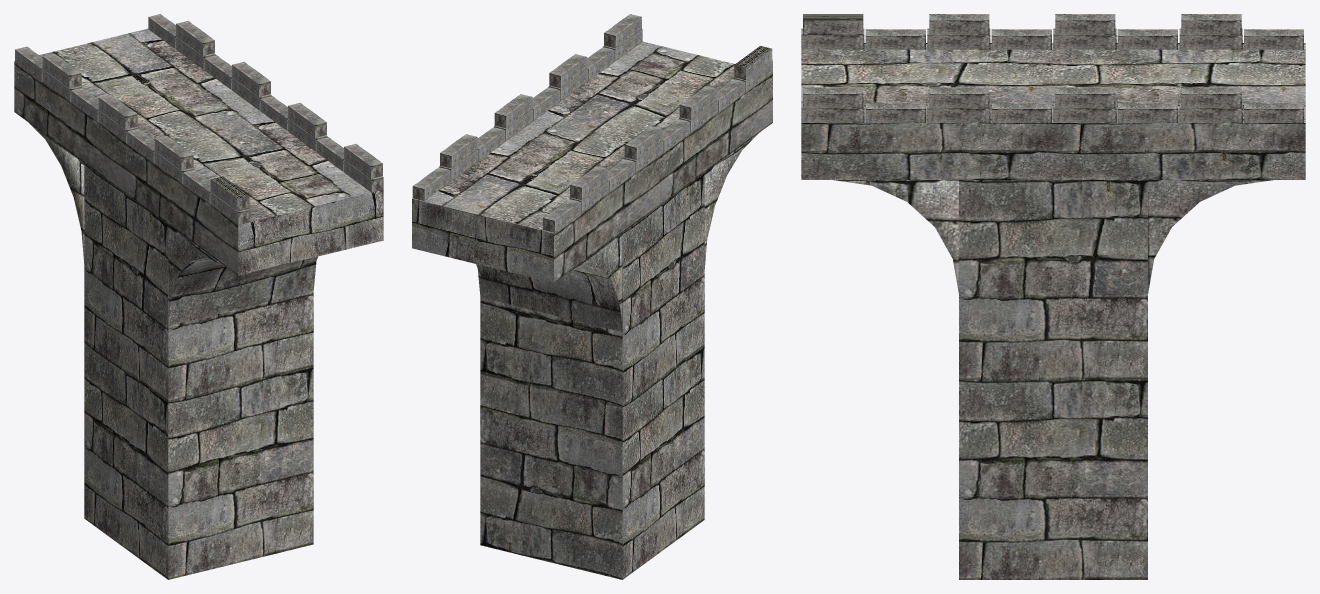
File: Bridge.fbx
3 views of the same model, side by side, from view 1: azimuth 30°, elevation 25°; view 2: azimuth 150°, elevation 25°; view 3: azimuth 270°, elevation 25° (orthographic). The views are drawn at different scales.
Visible parts, largest first — view 1: BridgeStand, BridgeWalkway, ArchSide1, ArchSide2, Brick24, Brick17, Brick18, Brick19, Brick20, Brick21, Brick22, Brick23 (+10 smaller); view 2: BridgeStand, BridgeWalkway, ArchSide2, ArchSide1, Brick21, Brick22, Brick18, Brick24, Brick17, Brick19, Brick20, Brick23 (+8 smaller); view 3: BridgeStand, BridgeWalkway, ArchSide1, ArchSide2, Brick20, Brick21, Brick22, Brick23, Brick14, Brick15, Brick13, Brick9 (+16 smaller).
Boxes of the visible parts, x1=… form: BridgeStand: x1=84, y1=163, x2=313, y2=579; BridgeWalkway: x1=14, y1=28, x2=383, y2=275; ArchSide1: x1=168, y1=225, x2=317, y2=325; ArchSide2: x1=29, y1=123, x2=84, y2=263; Brick24: x1=210, y1=176, x2=249, y2=211; Brick17: x1=154, y1=135, x2=193, y2=170; Brick18: x1=98, y1=94, x2=137, y2=129; Brick19: x1=42, y1=53, x2=81, y2=88; Brick20: x1=176, y1=21, x2=214, y2=55; Brick21: x1=232, y1=62, x2=270, y2=96; Brick22: x1=288, y1=103, x2=326, y2=137; Brick23: x1=344, y1=144, x2=382, y2=178; BridgeStand: x1=480, y1=173, x2=704, y2=579; BridgeWalkway: x1=412, y1=41, x2=772, y2=282; ArchSide2: x1=476, y1=233, x2=622, y2=331; ArchSide1: x1=704, y1=133, x2=758, y2=268; Brick21: x1=494, y1=94, x2=532, y2=128; Brick22: x1=549, y1=54, x2=587, y2=88; Brick18: x1=624, y1=126, x2=662, y2=159; Brick24: x1=734, y1=46, x2=772, y2=79; Brick17: x1=679, y1=86, x2=717, y2=119; Brick19: x1=570, y1=166, x2=607, y2=200; Brick20: x1=440, y1=134, x2=477, y2=168; Brick23: x1=604, y1=14, x2=641, y2=48; BridgeStand: x1=959, y1=180, x2=1147, y2=579; BridgeWalkway: x1=801, y1=43, x2=1305, y2=179; ArchSide1: x1=834, y1=180, x2=958, y2=293; ArchSide2: x1=1148, y1=180, x2=1272, y2=293; Brick20: x1=1181, y1=87, x2=1241, y2=108; Brick21: x1=1055, y1=87, x2=1115, y2=108; Brick22: x1=929, y1=87, x2=989, y2=108; Brick23: x1=803, y1=87, x2=863, y2=108; Brick14: x1=991, y1=102, x2=1051, y2=123; Brick15: x1=865, y1=102, x2=925, y2=123; Brick13: x1=1117, y1=102, x2=1177, y2=123; Brick9: x1=991, y1=29, x2=1051, y2=49.
Bounding box in the file's own units: 3 × 8.51 × 8.
Materials: 1 (1 with a texture image).
